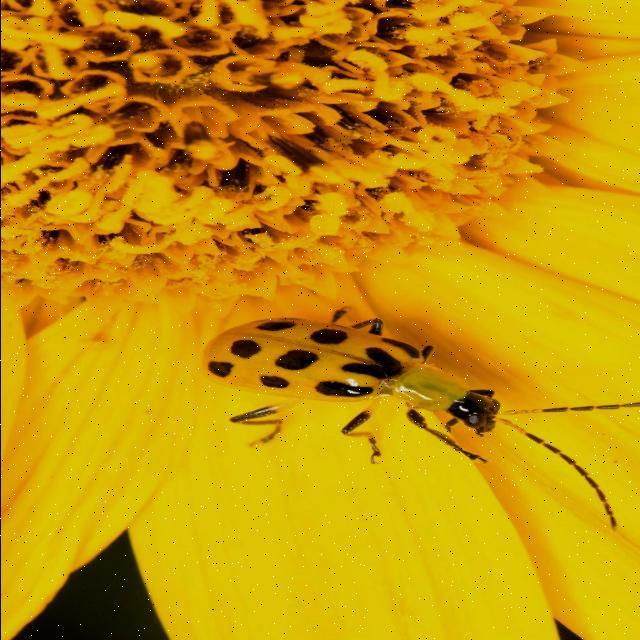gusano_verde: (200, 319, 640, 500)
